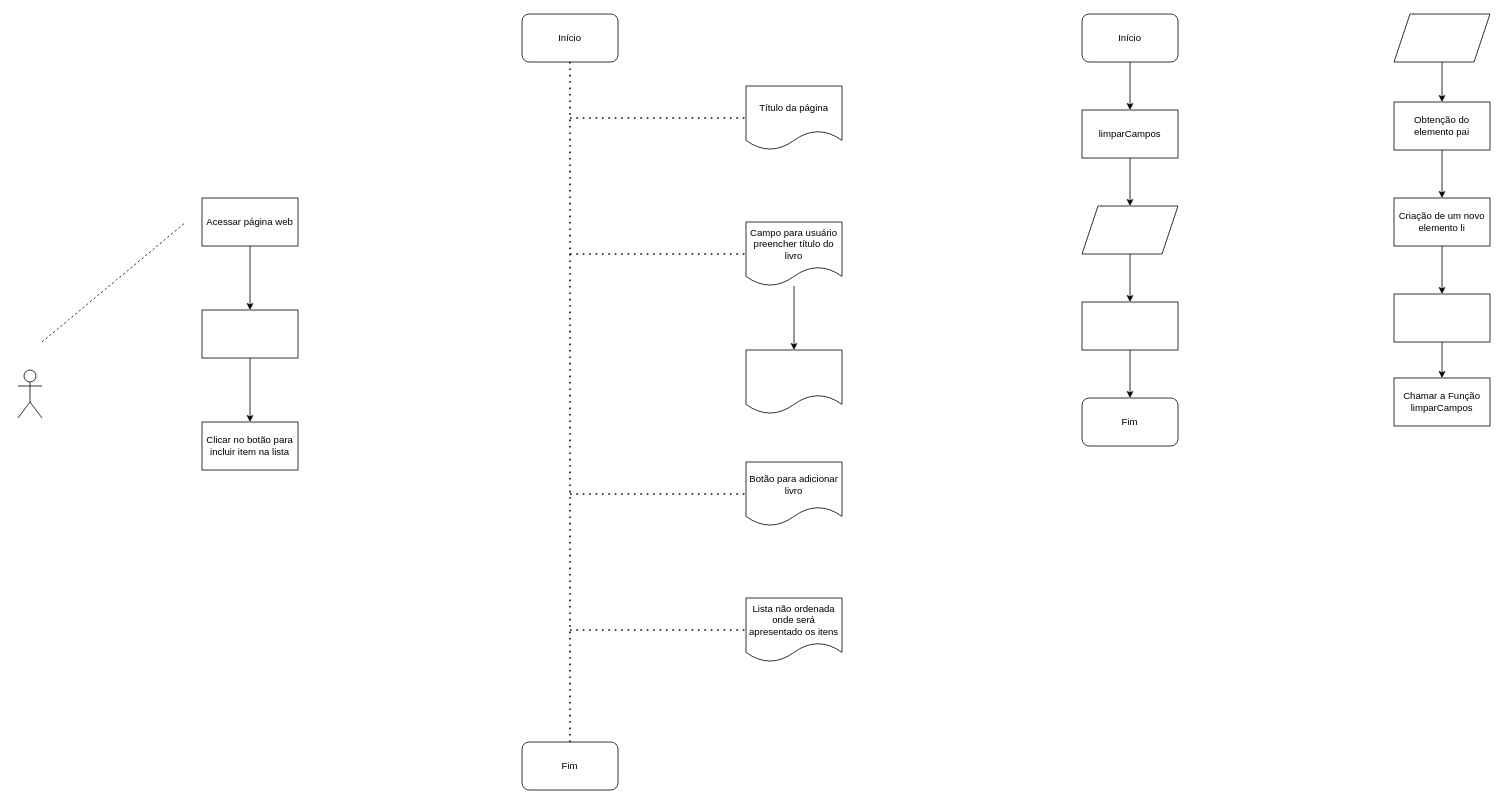
This 1504x804 diagram has some shape labels left out. Each missing label, with the centre of its shape:
"Campo para usuário preencher data fim do livro" goes at [793,381].
"Inclusão do evento de clique e função anônima no botão" goes at [1129,325].
"Inclusão dos valores preenchidos pelo usuário no elemento li" goes at [1441,317].
"Obtenção do elemento botão" goes at [1129,229].
"Obtenção dos valores dos campos título e data fim" goes at [1441,37].
"Preencher os campos destacados" goes at [249,333].
"Usuário" goes at [29,393].
